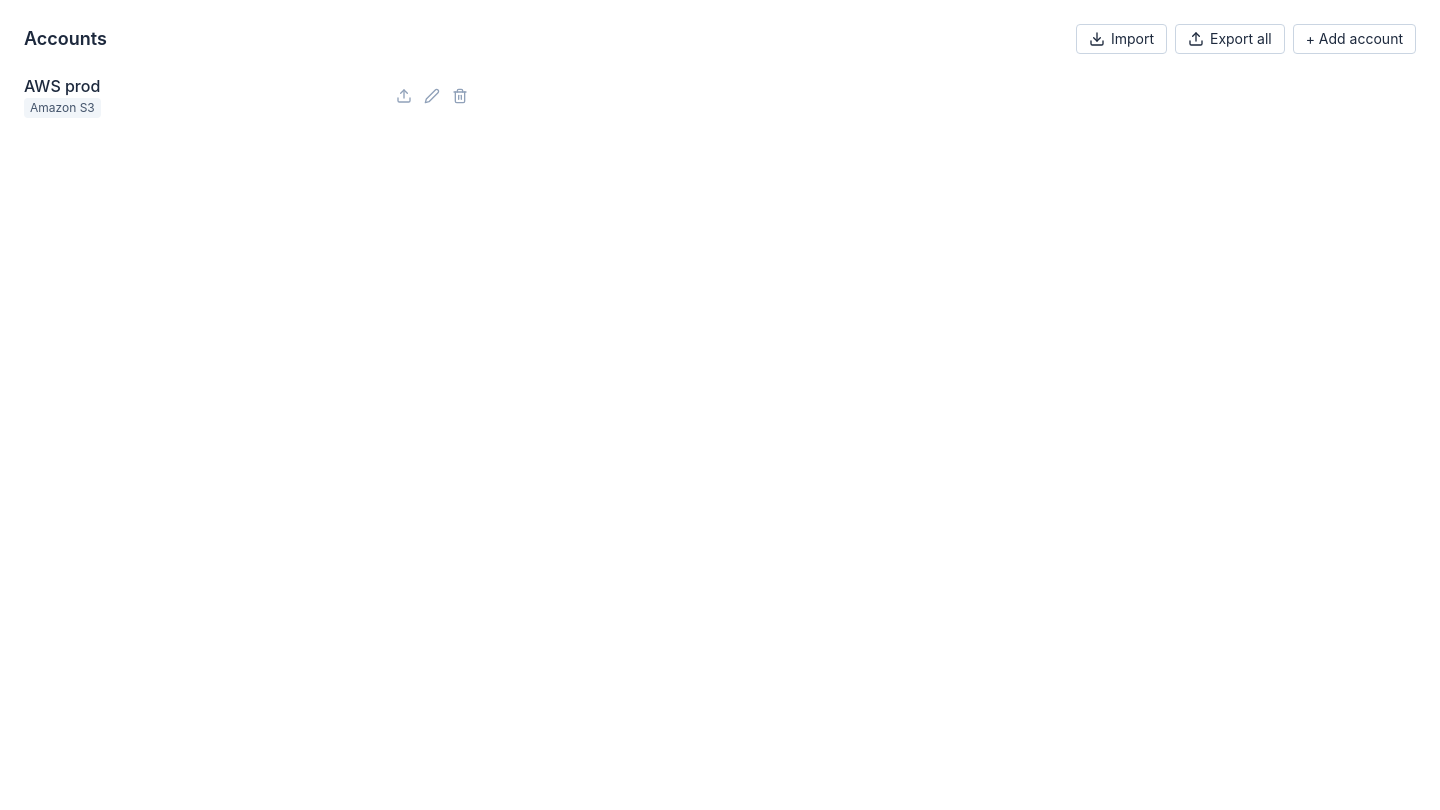
it: ConnectionsScreen › opens the export dialog from a row export button
Click the button named "Export AWS prod".
click(404, 96)  # box [392,88,416,104]
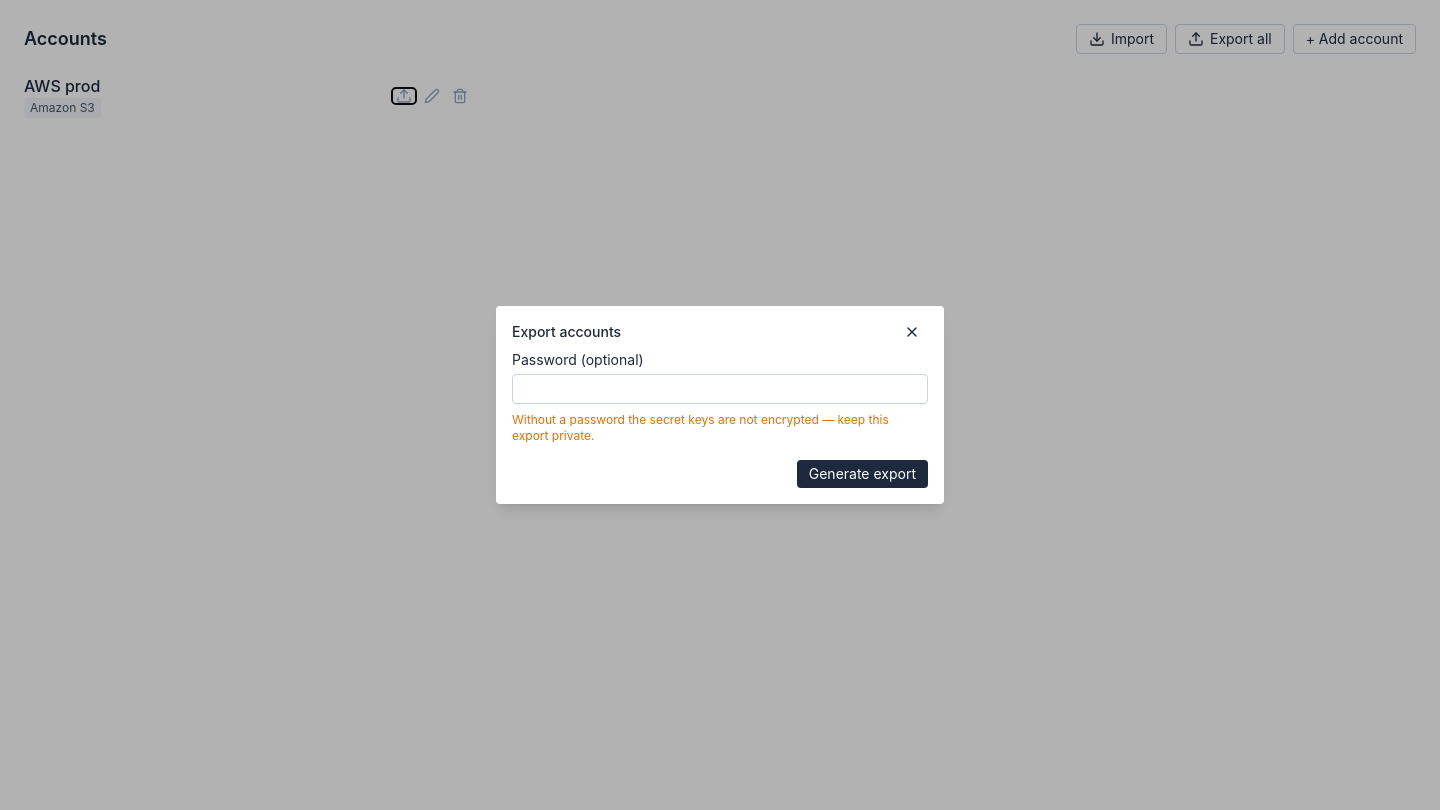
Check: the text "Export accounts" is shown, box [512,322,621,342]
